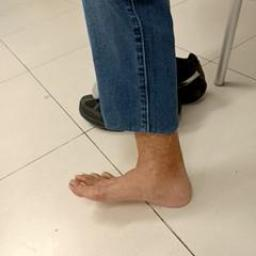Medial View -Right Foot-: (51, 138, 212, 226)
